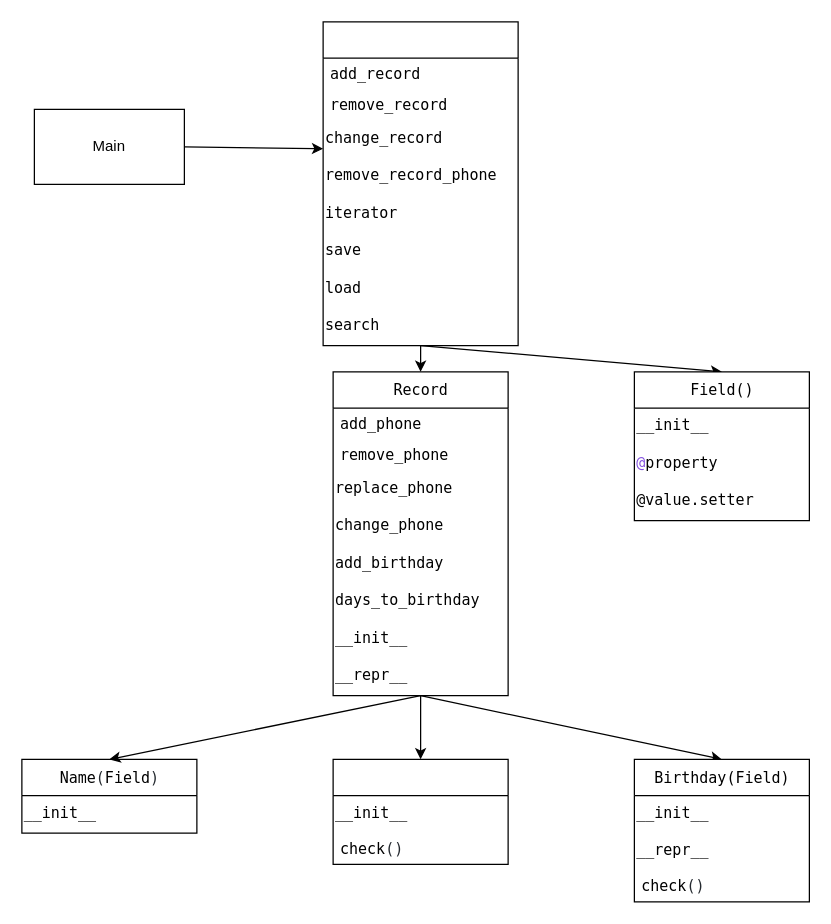
The diagram is 831 pixels wide and 924 high, and some of its shapes have lost their labels. The shapes that lost their labels are listed below. From the top down, each one's box as (x1, y1, x2, y2) in pixels, then its label:
(322, 21, 518, 346): AddressBook ( UserDict )
(332, 758, 508, 864): Phone(Field)
